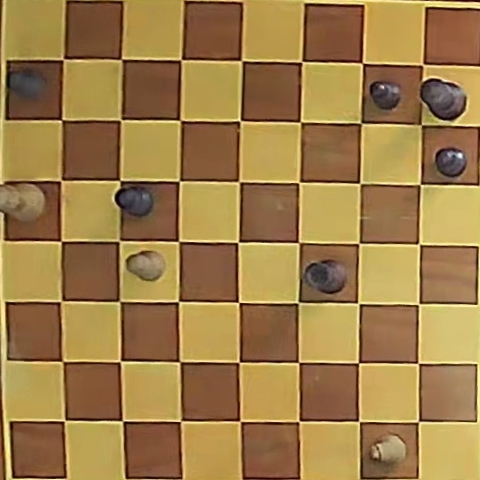black-king: (420, 79, 466, 121)
black-pawn: (8, 68, 47, 99), (115, 186, 153, 217), (434, 147, 467, 177), (370, 81, 402, 110)
black-rook: (304, 260, 347, 294)
white-bishop: (371, 435, 407, 465)
white-king: (1, 184, 46, 222)
white-pawn: (126, 250, 165, 281)
